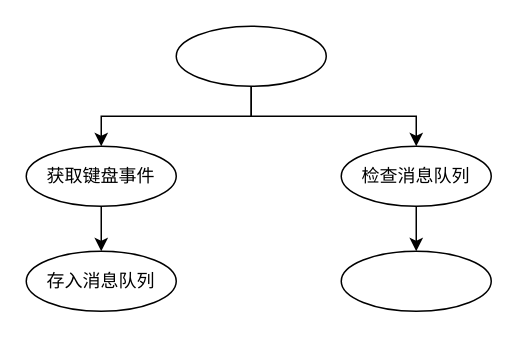
Some shapes in this 518 by 338 pixel diagram are drawn without their labels. Here are the shapes that lost their labels. From the top down, the box of each, then its label:
(175, 25, 326, 86): 启动节点
(340, 250, 491, 311): 发布队列数据
